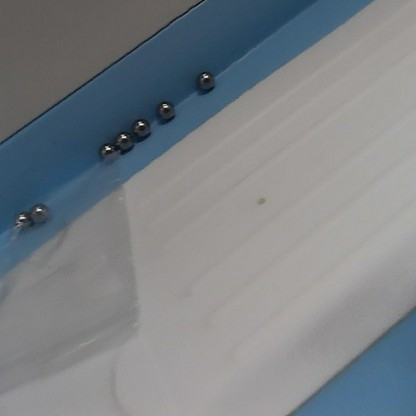ironball: (152, 96, 178, 121), (28, 201, 55, 224), (10, 210, 35, 232), (94, 141, 116, 165), (191, 69, 216, 90), (114, 126, 134, 148), (129, 119, 151, 138)
